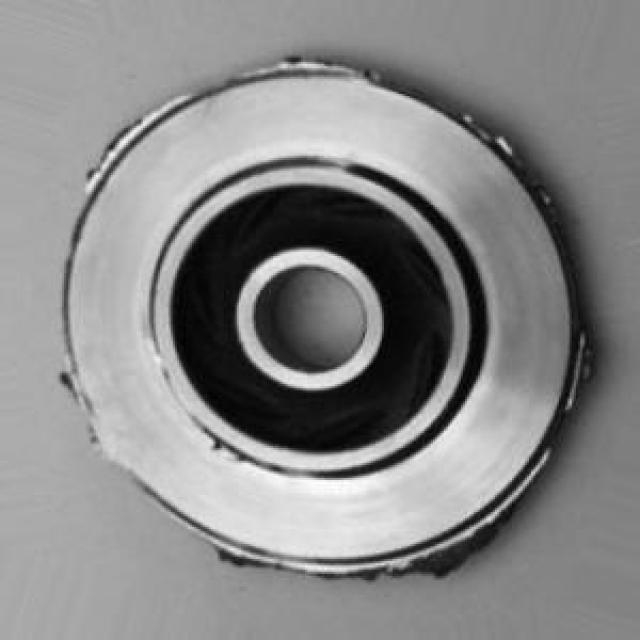Defect: (575, 334, 594, 383)
